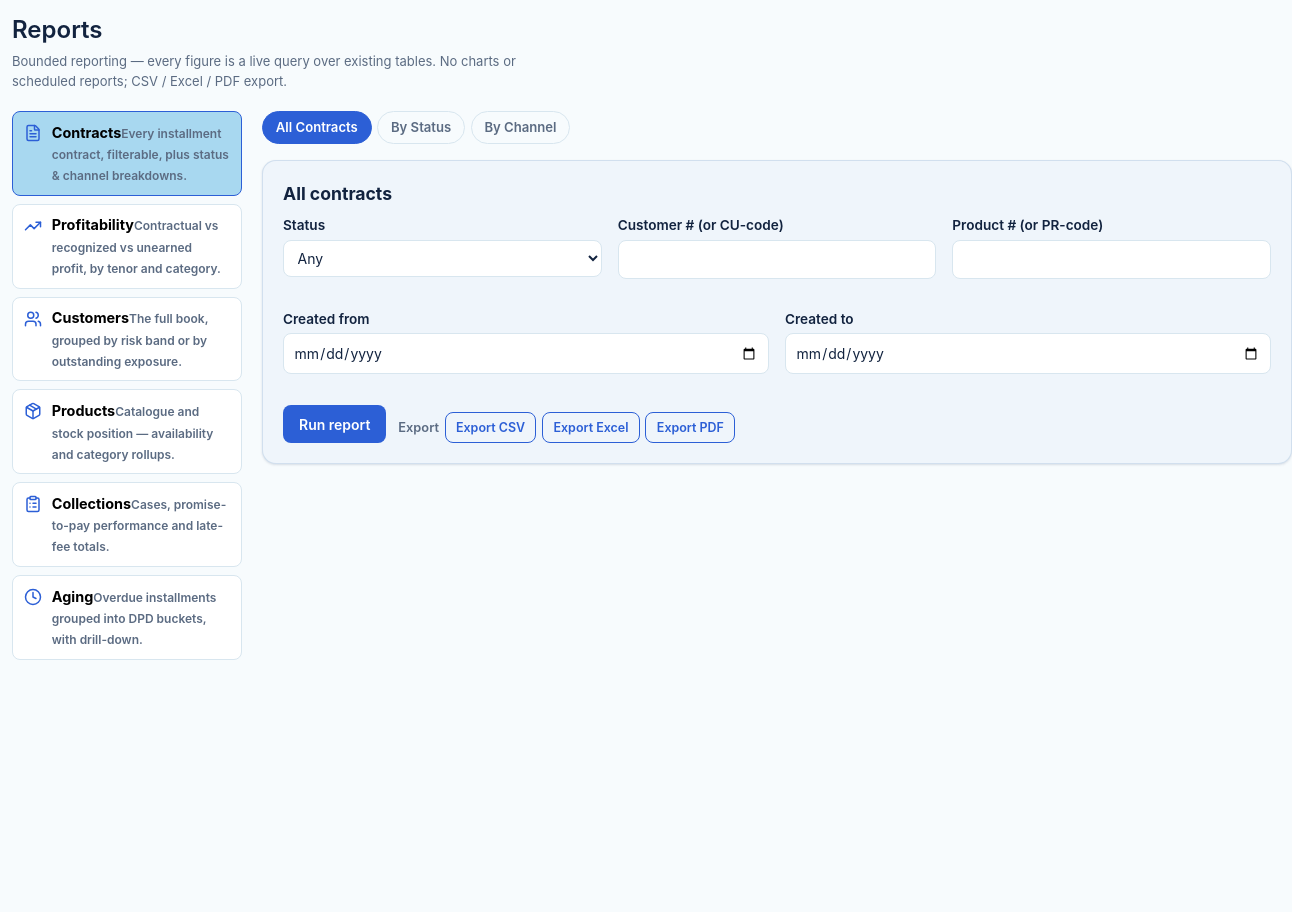
Scenario: Reports Center — six categories + sub-reports (Step 13) › the Aging report shows buckets and drills into one
The width and height of the screenshot is (1292, 912).
Click the tab "Aging": (127, 617) [12,575,242,660]
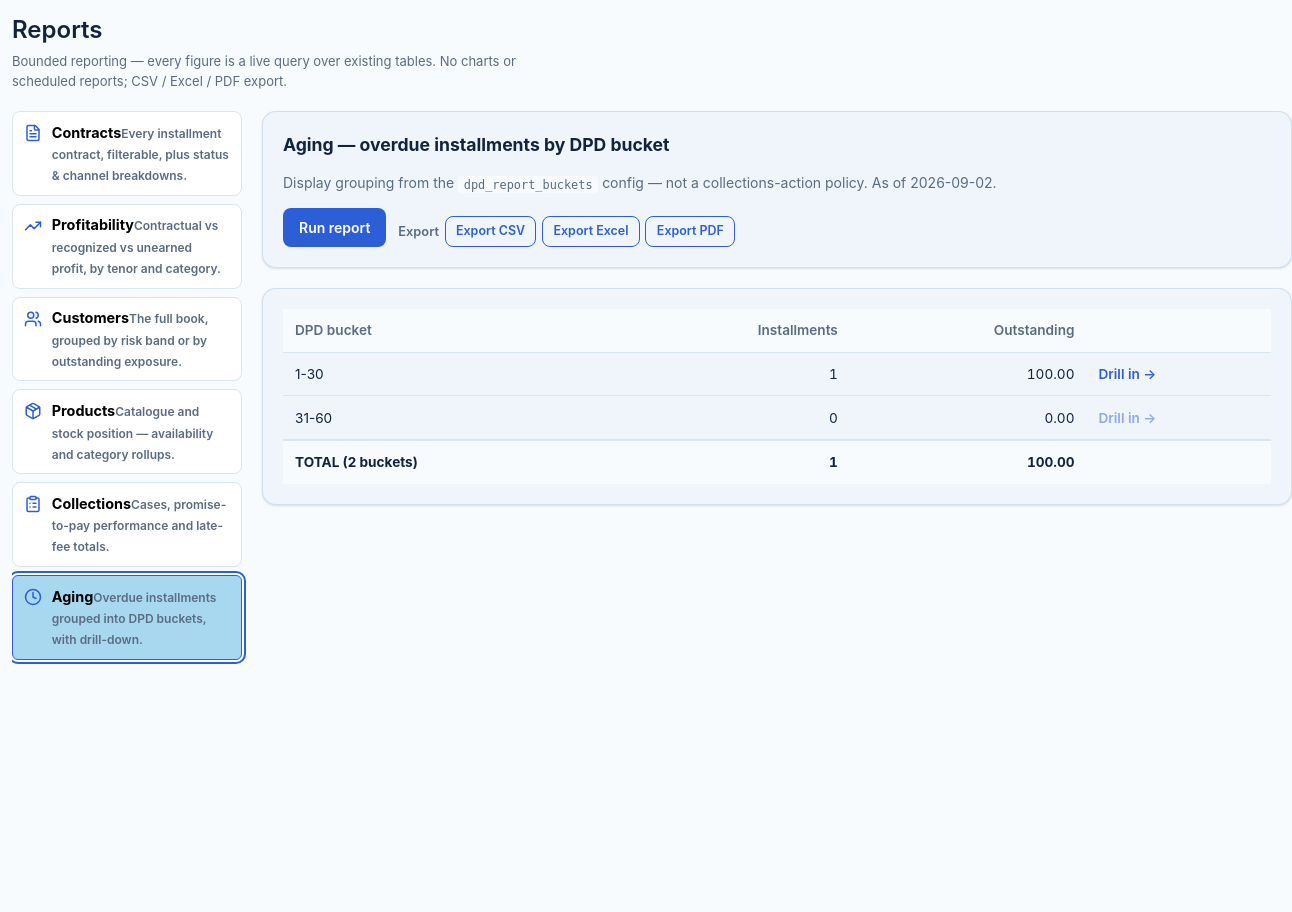
Result: the row with test id "aging-bucket-0" shows "1-30" at [295,366,324,382]
Click the button "Drill in →" in the row of "1-30": (1127, 374) [1098,364,1156,384]
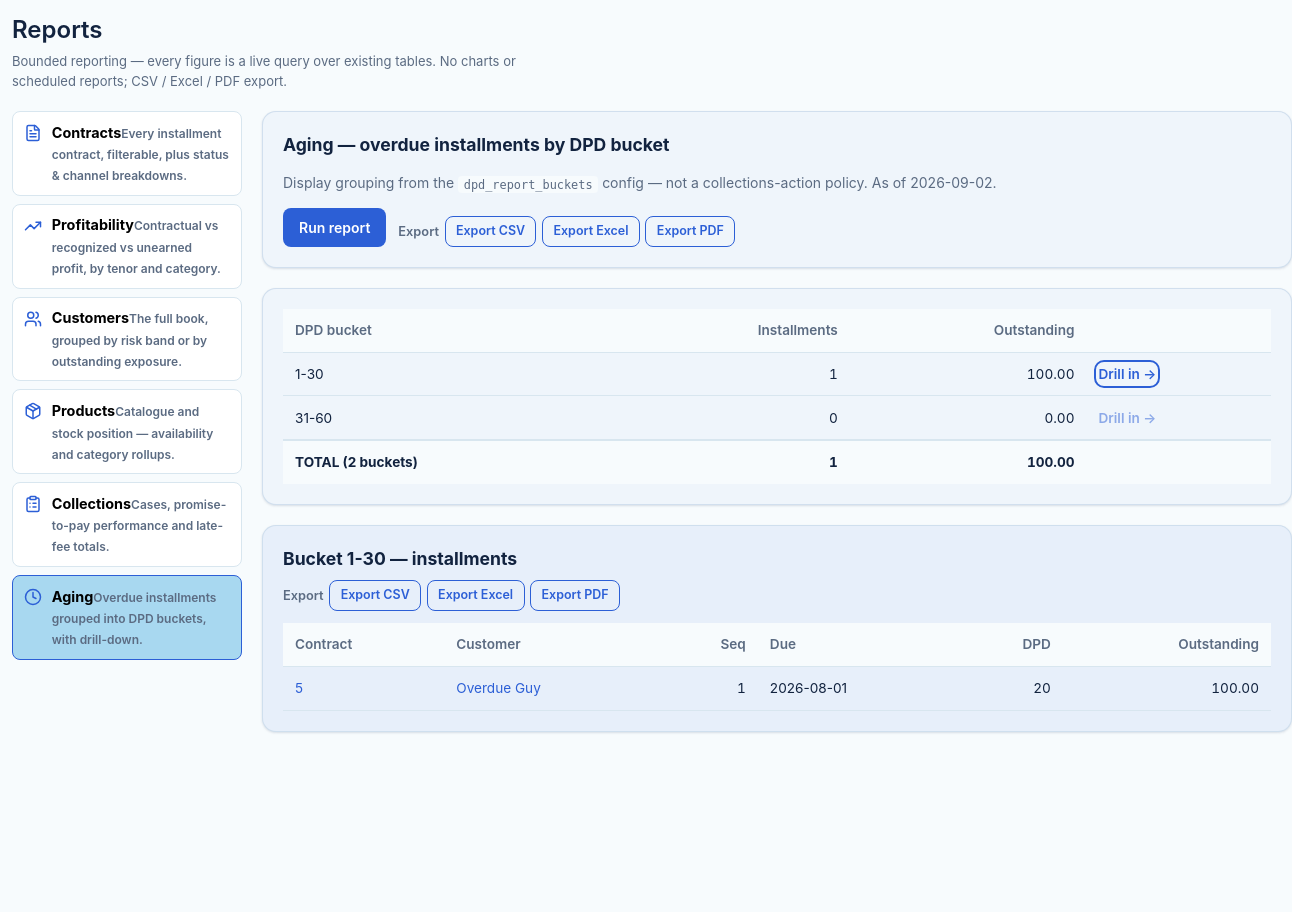
Result: the row with test id "aging-detail-50" shows "Overdue Guy" at [456,680,541,696]
